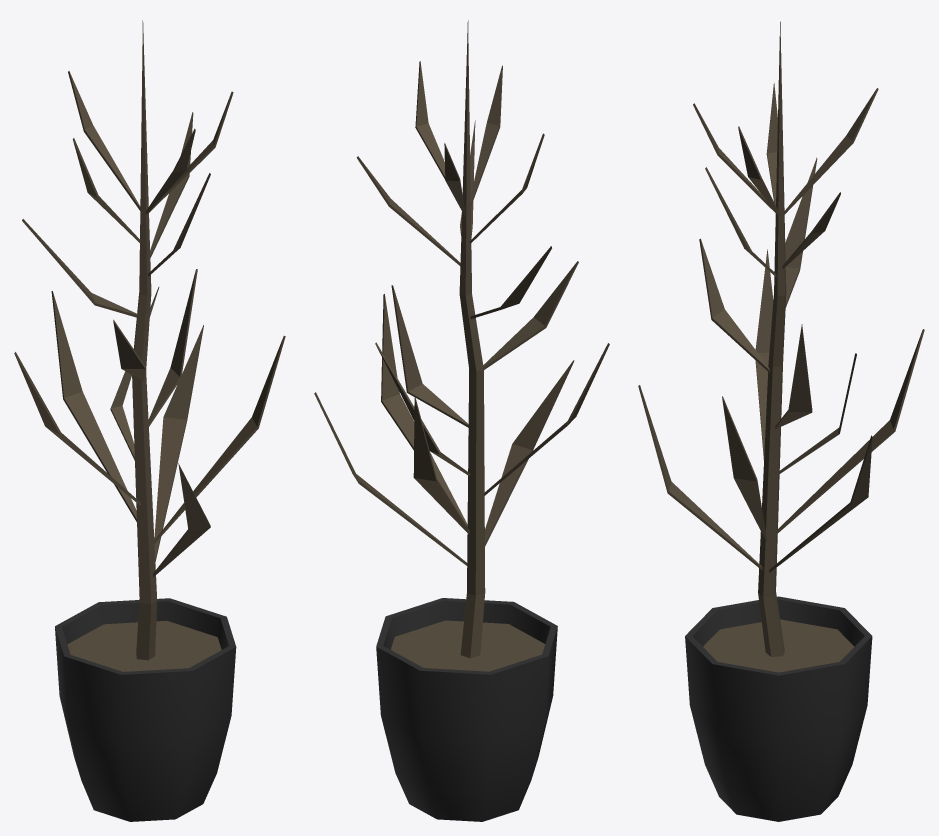
Rendered from Houseplant 8.glb.
3 renders of one model, left to right at view 1: azimuth 30°, elevation 25°; view 2: azimuth 150°, elevation 25°; view 3: azimuth 270°, elevation 25°, orthographic.
Parts seen in each view (by area): view 1: Houseplant_8_Cylinder.027; view 2: Houseplant_8_Cylinder.027; view 3: Houseplant_8_Cylinder.027.
Part boxes in pixels (<box>): Houseplant_8_Cylinder.027: <box>14,20,285,821</box>; Houseplant_8_Cylinder.027: <box>314,20,609,821</box>; Houseplant_8_Cylinder.027: <box>638,21,924,821</box>.
Bounding box in the file's own units: 0.5171 × 1.56 × 0.5171.
